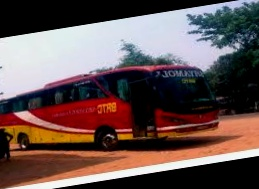bus: (0, 53, 224, 168)
